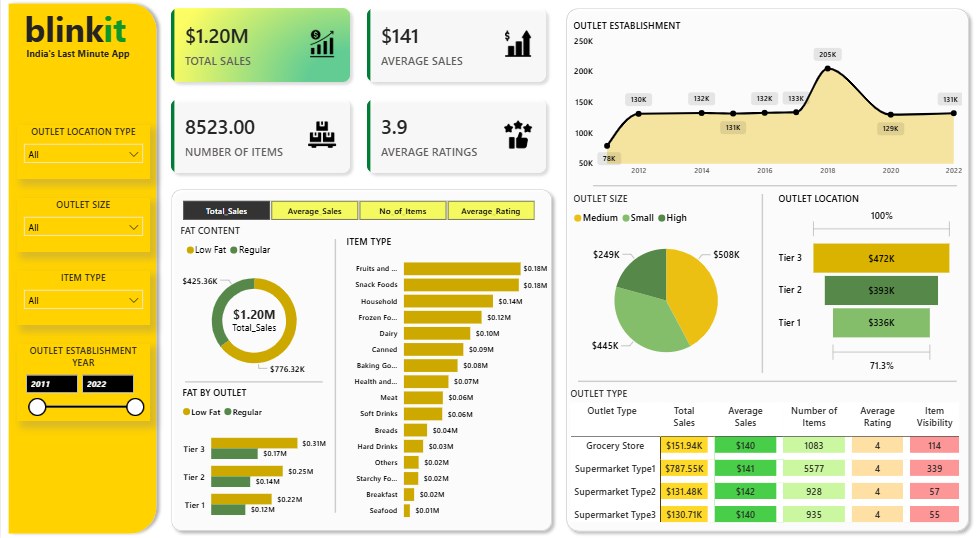

The page's visual inventory and layout, read from the dashboard file:
{"tool":"powerbi","page":{"name":"Page 1","canvas":[1400,800],"ordinal":0},"visuals":[{"type":"shape","box":[798.3,31.3,593,765.2],"z":0,"group":"g2"},{"type":"shape","box":[1.7,24.3,229.6,775.7],"z":1000,"group":"g3"},{"type":"textbox","box":[29.5,31.3,172.2,78.3],"z":2000,"group":"g3"},{"type":"textbox","box":[31.3,92.1,189.6,34.8],"z":3000,"group":"g3"},{"type":"shape","box":[235.2,290.4,561.7,506.1],"z":3000,"group":"g1"},{"type":"cardVisual","fields":{"Data":["BlinkIT Grocery Data.Total_Sales","BlinkIT Grocery Data.Average_Sales","BlinkIT Grocery Data.No_of_Items","BlinkIT Grocery Data.Average_Rating"]},"box":[226.1,22.6,570.4,271.3],"z":4000},{"type":"group","id":"g1","title":"Group 1","box":[234.8,290.4,561.7,506.1],"z":5000},{"type":"donutChart","title":"FAT CONTENT","fields":{"Y":["BlinkIT Grocery Data.Total_Sales"],"Category":["BlinkIT Grocery Data.Item Fat Content"]},"box":[251.8,349.5,220.6,230.8],"z":5000,"group":"g1"},{"type":"lineChart","title":"OUTLET ESTABLISHMENT","fields":{"Category":["BlinkIT Grocery Data.Outlet Establishment Year"],"Y":["Sum(BlinkIT Grocery Data.Total Sales)"]},"box":[812.2,55.6,565.2,234.8],"z":6000,"group":"g2"},{"type":"slicer","fields":{"Values":["Metrics.Metrics"]},"box":[234.8,308.7,551.5,40.7],"z":6000,"group":"g1"},{"type":"shape","box":[845.3,283.5,520,19.1],"z":7000,"group":"g2"},{"type":"cardVisual","fields":{"Data":["BlinkIT Grocery Data.Total_Sales"]},"box":[302.7,439.4,118.8,91.6],"z":7000,"group":"g1"},{"type":"pieChart","title":"OUTLET SIZE","fields":{"Category":["BlinkIT Grocery Data.Outlet Size"],"Y":["BlinkIT Grocery Data.Total_Sales"]},"box":[812.2,302.6,274.8,264.3],"z":8000,"group":"g2"},{"type":"clusteredBarChart","title":"FAT BY OUTLET","fields":{"Y":["BlinkIT Grocery Data.Total_Sales"],"Category":["BlinkIT Grocery Data.Outlet Location Type"],"Series":["BlinkIT Grocery Data.Item Fat Content"]},"box":[254.4,580.8,215.7,207],"z":8000,"group":"g1"},{"type":"shape","box":[1067.9,306.1,38.3,255.7],"z":9000,"group":"g2"},{"type":"shape","box":[263,566.9,196.5,13.9],"z":9000,"group":"g1"},{"type":"funnel","title":"OUTLET LOCATION","fields":{"Y":["BlinkIT Grocery Data.Total_Sales"],"Category":["BlinkIT Grocery Data.Outlet Location Type"]},"box":[1106.1,302.6,259.1,264.3],"z":10000,"group":"g2"},{"type":"shape","box":[459.6,370.4,38.3,391.3],"z":10000,"group":"g1"},{"type":"barChart","title":"ITEM TYPE","fields":{"Y":["BlinkIT Grocery Data.Total_Sales"],"Category":["BlinkIT Grocery Data.Item Type"]},"box":[489.1,365.2,297.4,417.4],"z":11000,"group":"g1"},{"type":"shape","box":[824.4,558.3,540.9,29.6],"z":11000,"group":"g2"},{"type":"slicer","title":"OUTLET LOCATION TYPE","fields":{"Values":["BlinkIT Grocery Data.Outlet Location Type"]},"box":[22.6,206.9,189.6,76.5],"z":12000,"group":"g3"},{"type":"slicer","title":"OUTLET SIZE","fields":{"Values":["BlinkIT Grocery Data.Outlet Size"]},"box":[22.6,311.3,189.6,76.5],"z":13000,"group":"g3"},{"type":"slicer","title":"ITEM TYPE","fields":{"Values":["BlinkIT Grocery Data.Item Type"]},"box":[22.6,415.6,189.6,76.5],"z":14000,"group":"g3"},{"type":"slicer","title":"OUTLET ESTABLISHMENT YEAR","fields":{"Values":["BlinkIT Grocery Data.Outlet Establishment Year"]},"box":[22.6,520,189.6,109.6],"z":15000,"group":"g3"},{"type":"pivotTable","title":"OUTLET TYPE","fields":{"Rows":["BlinkIT Grocery Data.Outlet Type"],"Values":["BlinkIT Grocery Data.Total_Sales","BlinkIT Grocery Data.Average_Sales","BlinkIT Grocery Data.No_of_Items","BlinkIT Grocery Data.Average_Rating","Sum(BlinkIT Grocery Data.Item Visibility)"]},"box":[808.7,580.9,568.7,201.7],"z":16000,"group":"g2"},{"type":"group","id":"g2","title":"Group 2","box":[798.3,31.3,593,765.2],"z":16001},{"type":"group","id":"g3","title":"Group 3","box":[1.7,24.3,229.6,775.7],"z":16002}]}

Visuals, with their boxes on the page's 1400x800 design canvas (x1, y1, x2, y2). These are canvas units, not pixel positions in the 980x538 screenshot, which may show the page scaled, cropped or inside an application window:
shape: [798,31,1391,796]
shape: [2,24,231,800]
textbox: [30,31,202,110]
textbox: [31,92,221,127]
shape: [235,290,797,796]
cardVisual - BlinkIT Grocery Data.Total_Sales x BlinkIT Grocery Data.Average_Sales: [226,23,796,294]
"Group 1" group: [235,290,796,796]
"FAT CONTENT" donutChart: [252,350,472,580]
"OUTLET ESTABLISHMENT" lineChart: [812,56,1377,290]
slicer - Metrics.Metrics: [235,309,786,349]
shape: [845,284,1365,303]
cardVisual - BlinkIT Grocery Data.Total_Sales: [303,439,422,531]
"OUTLET SIZE" pieChart: [812,303,1087,567]
"FAT BY OUTLET" clusteredBarChart: [254,581,470,788]
shape: [1068,306,1106,562]
shape: [263,567,460,581]
"OUTLET LOCATION" funnel: [1106,303,1365,567]
shape: [460,370,498,762]
"ITEM TYPE" barChart: [489,365,786,783]
shape: [824,558,1365,588]
"OUTLET LOCATION TYPE" slicer: [23,207,212,283]
"OUTLET SIZE" slicer: [23,311,212,388]
"ITEM TYPE" slicer: [23,416,212,492]
"OUTLET ESTABLISHMENT YEAR" slicer: [23,520,212,630]
"OUTLET TYPE" pivotTable: [809,581,1377,783]
"Group 2" group: [798,31,1391,796]
"Group 3" group: [2,24,231,800]
